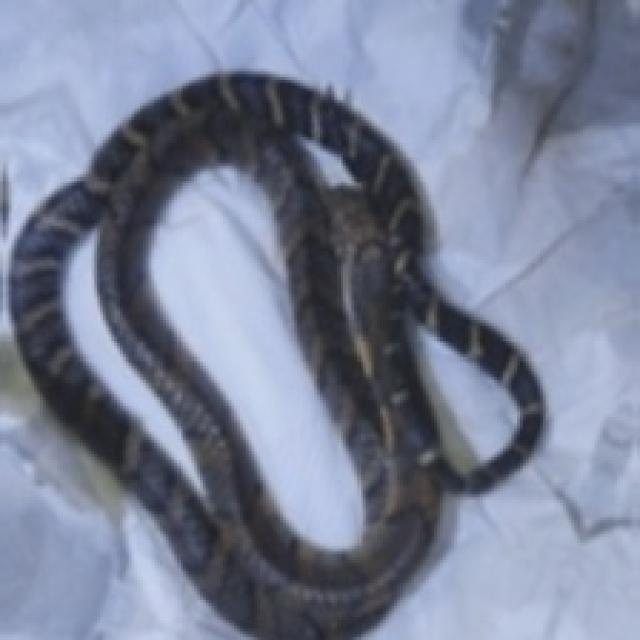king cobra: (9, 71, 543, 637)
